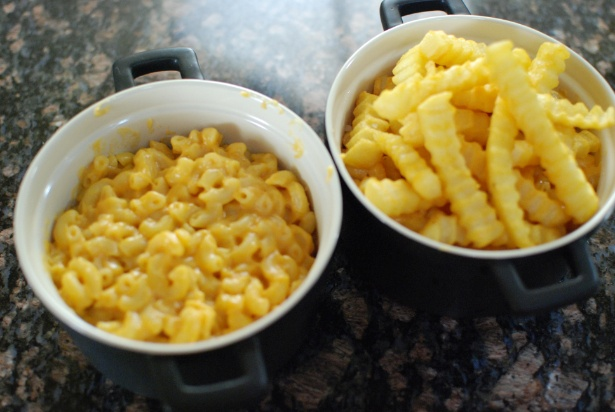macncheese: (43, 122, 320, 341)
